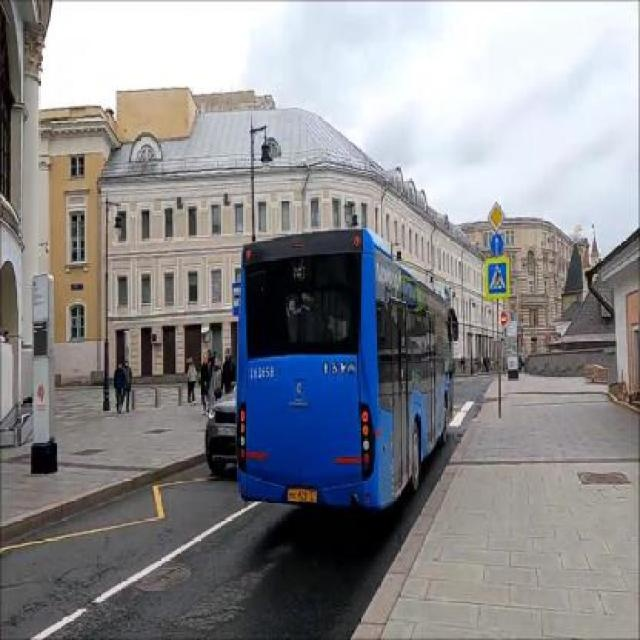Bus: (238, 225, 453, 507)
